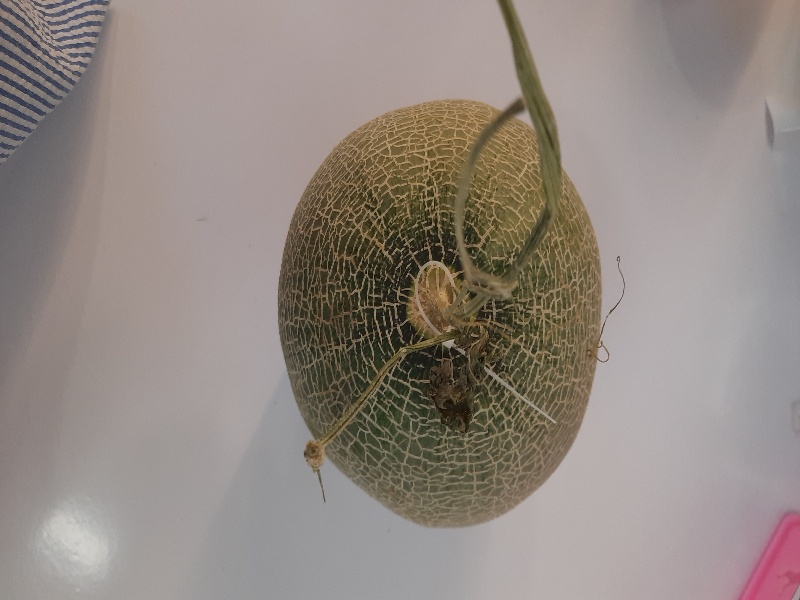fruit: (259, 32, 636, 531)
